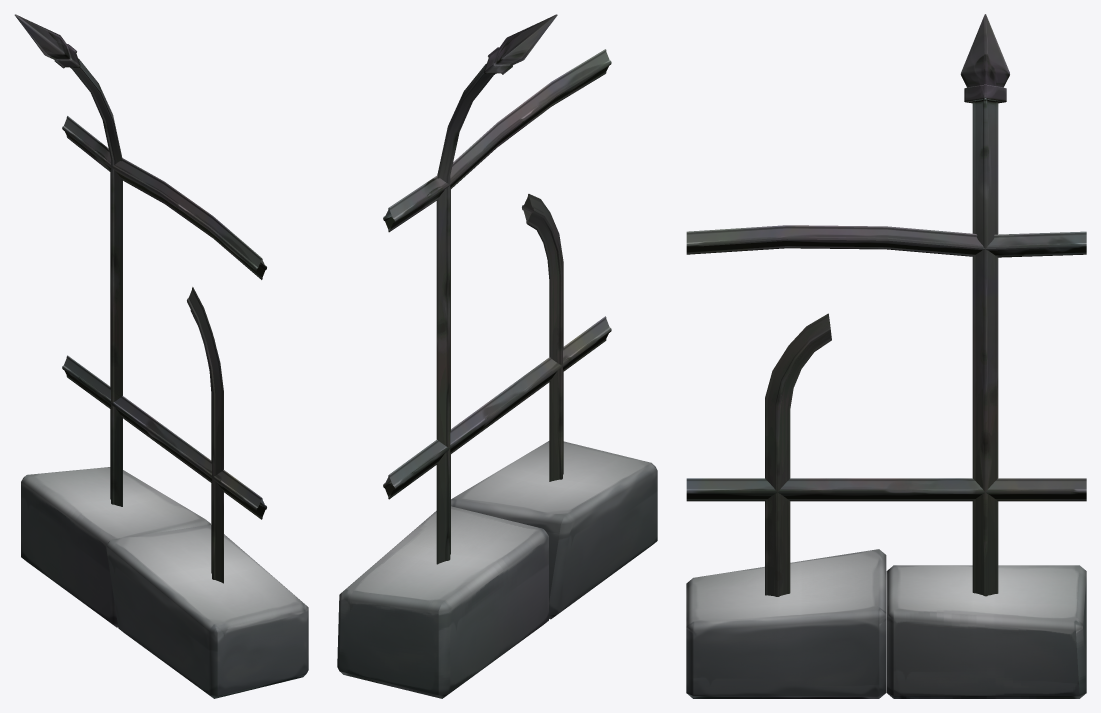
The model's file is Fence4.fbx.
3 renders of one model, left to right at view 1: azimuth 30°, elevation 25°; view 2: azimuth 150°, elevation 25°; view 3: azimuth 270°, elevation 25°, orthographic. The views are drawn at different scales.
Parts seen in each view (by area): view 1: Fence_4:Mesh; view 2: Fence_4:Mesh; view 3: Fence_4:Mesh.
Part boxes in pixels (box(x1,y1,x2,y2)): Fence_4:Mesh: box(14, 14, 308, 698); Fence_4:Mesh: box(337, 14, 657, 698); Fence_4:Mesh: box(686, 14, 1086, 698).
Bounding box in the file's own units: 0.4512 × 1.69 × 1.
